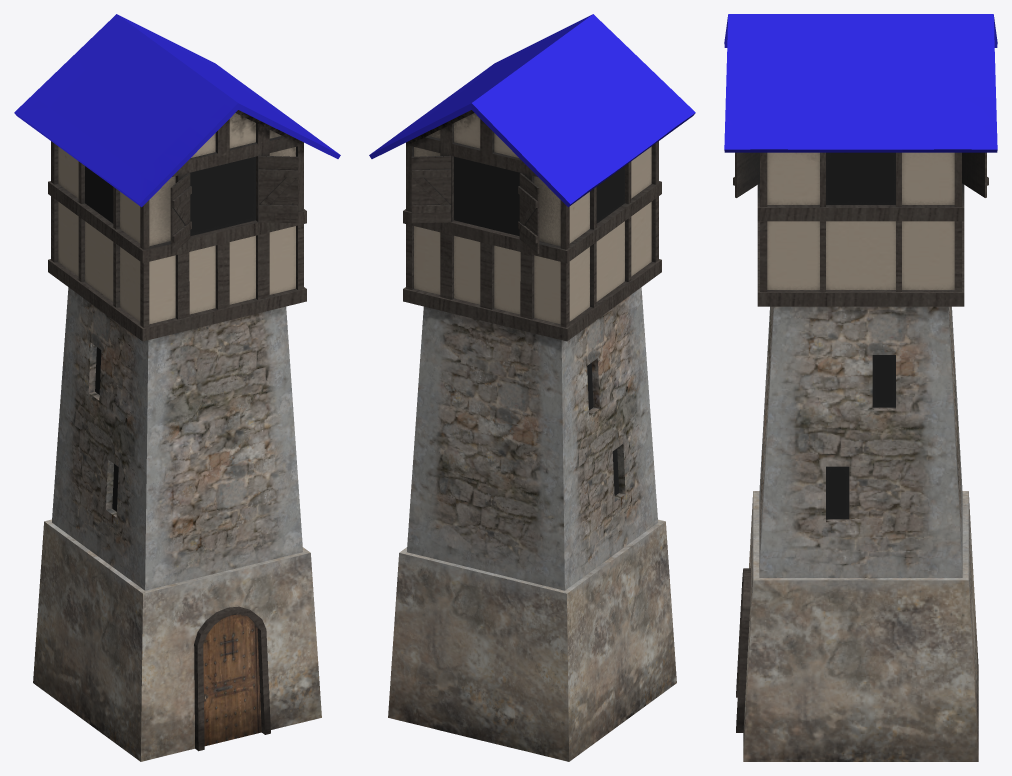
File: Torre de guardia.fbx
The picture shows the model from 3 angles, left to right: view 1: azimuth 30°, elevation 25°; view 2: azimuth 150°, elevation 25°; view 3: azimuth 270°, elevation 25°; orthographic projection. The views are drawn at different scales.
Visible parts, largest first — view 1: Torre de guardia, Torre de guardia.001; view 2: Torre de guardia, Torre de guardia.001; view 3: Torre de guardia, Torre de guardia.001.
Boxes of the visible parts, x1,y1,x2,y2 form: Torre de guardia: (33, 110, 321, 761); Torre de guardia.001: (14, 14, 340, 207); Torre de guardia: (388, 110, 676, 761); Torre de guardia.001: (369, 14, 695, 207); Torre de guardia: (733, 152, 988, 761); Torre de guardia.001: (724, 14, 997, 152).
Size of the model in its own units: 228 by 693 by 245.
2 materials, 1 textured.
